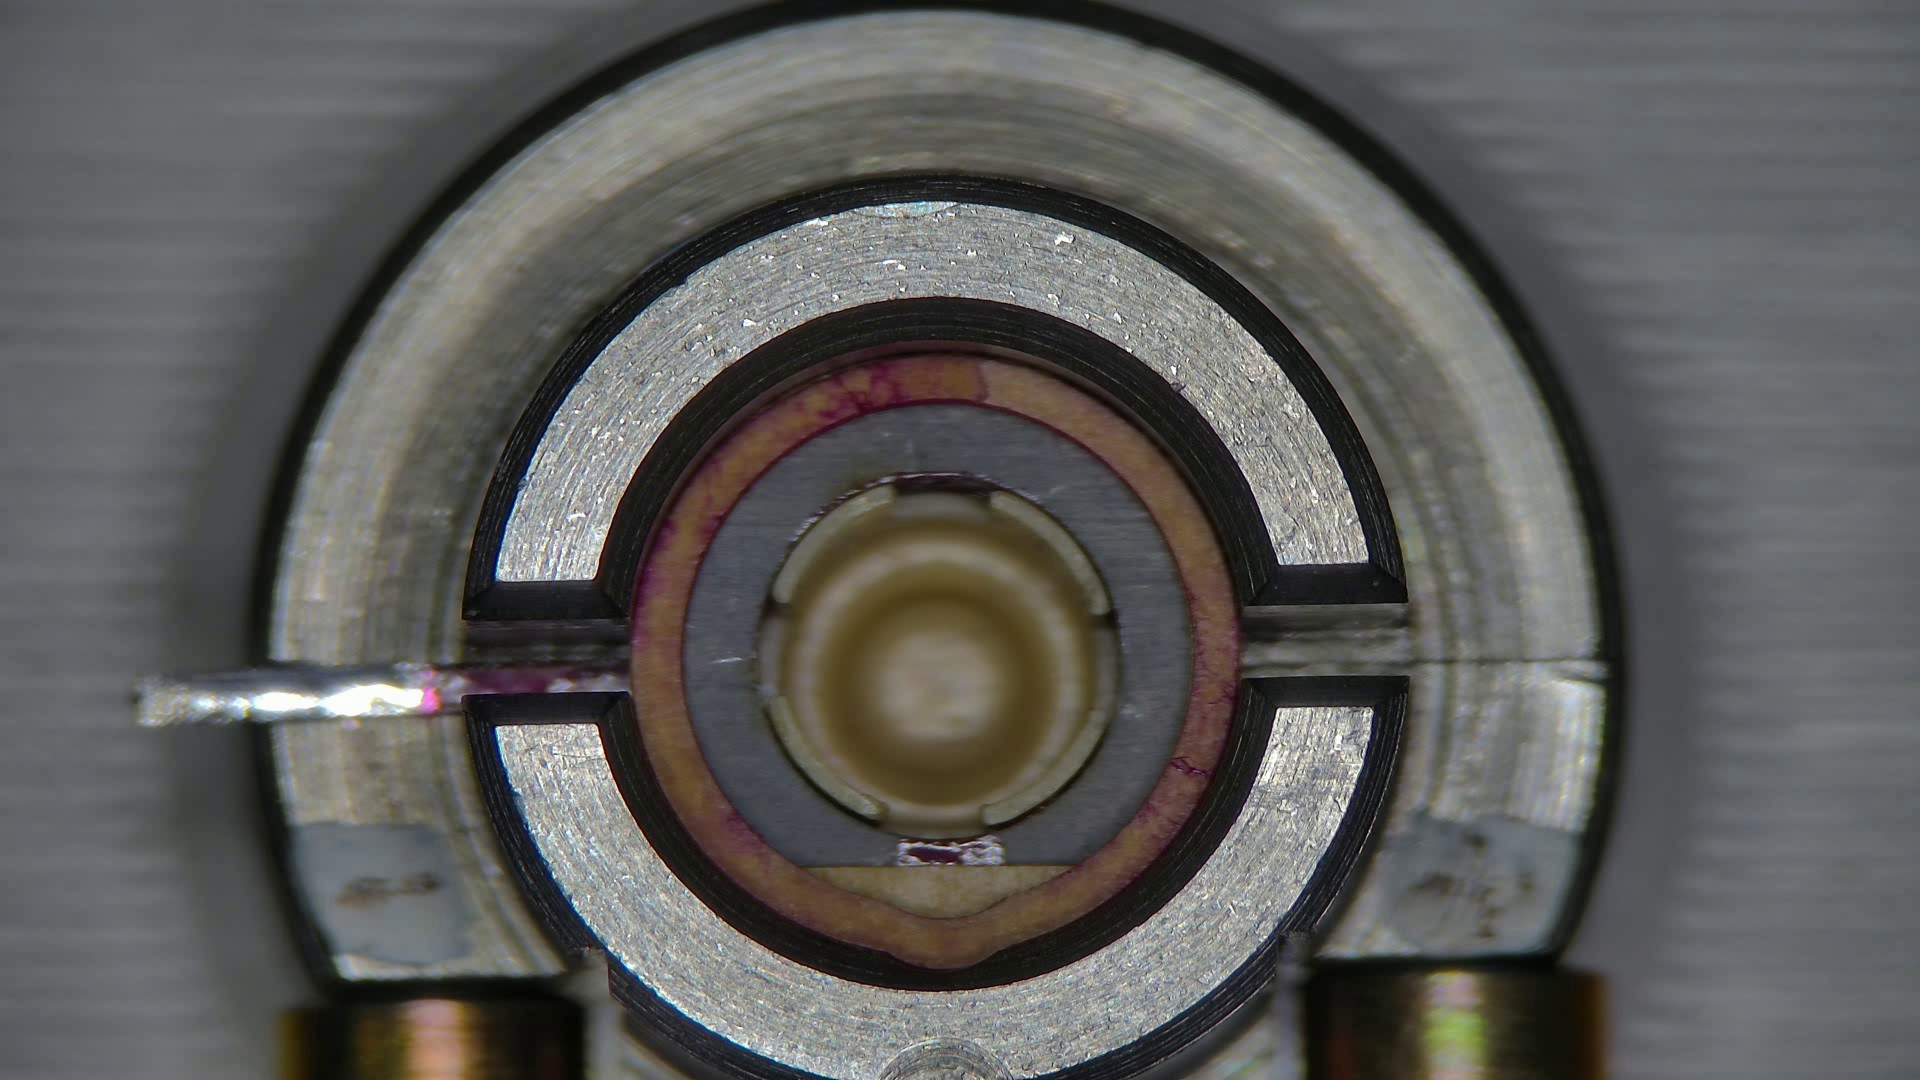GreyOring: (632, 351, 1238, 957)
YellowOring: (683, 405, 1191, 862)
redOring: (810, 864, 1068, 916)
